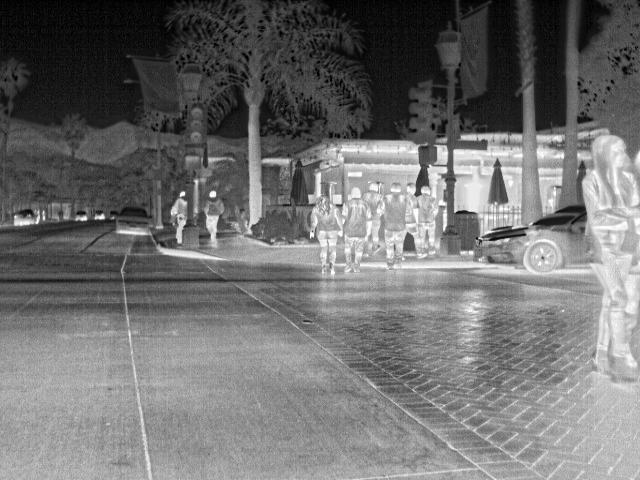car: (470, 204, 592, 278), (112, 206, 157, 239), (12, 207, 39, 229), (74, 208, 91, 223), (92, 210, 109, 223)
person: (581, 133, 636, 385), (338, 188, 373, 276), (378, 182, 411, 266), (307, 197, 341, 276), (416, 186, 442, 256), (361, 179, 383, 260), (401, 180, 422, 257), (204, 188, 225, 248), (169, 190, 191, 246)
